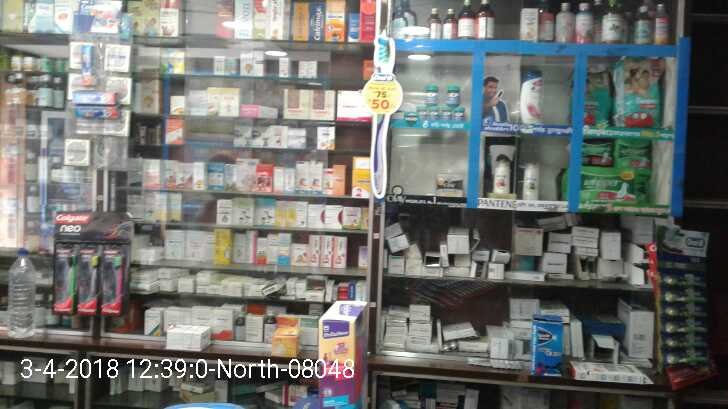oralcare: (657, 224, 711, 371)
vicks: (403, 85, 464, 121)
